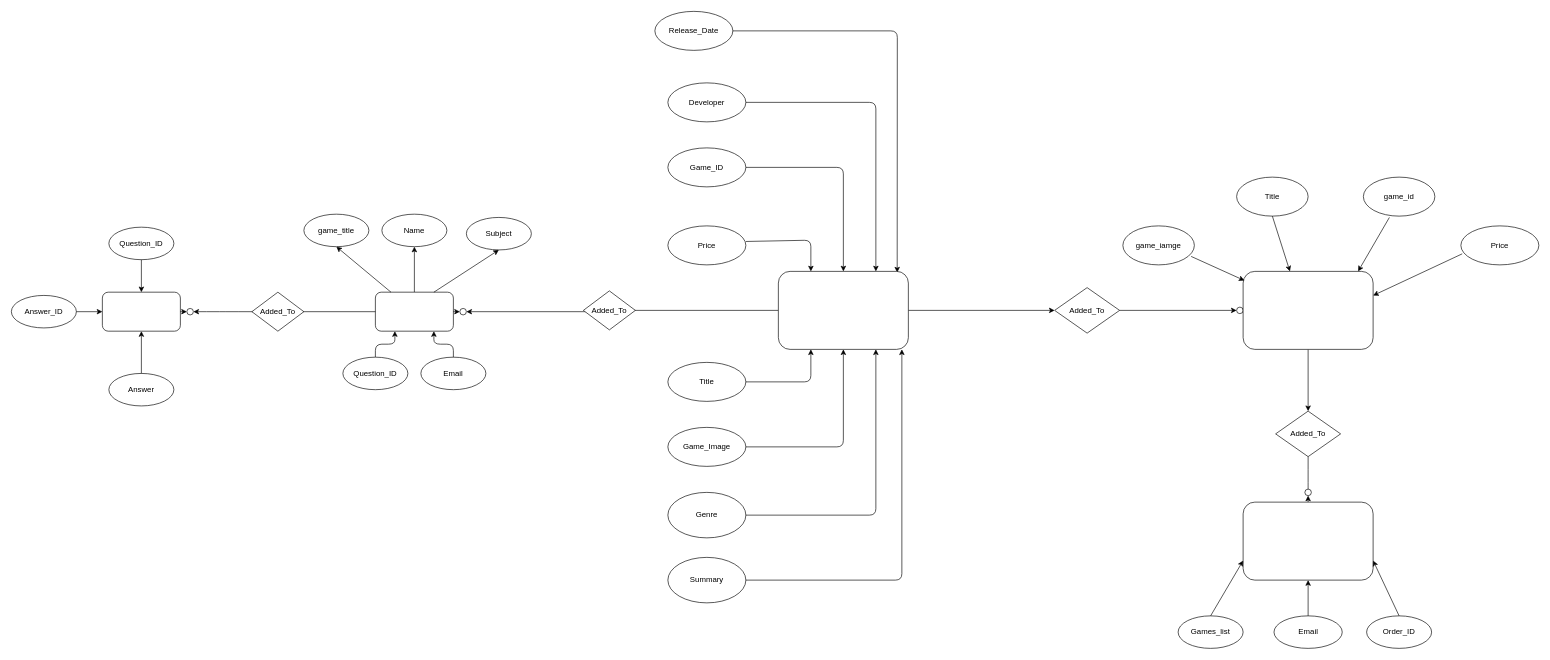
Image size: 1550x660. Some labels were removed from this diagram. The shapes that lost their labels are listed below. From the top down, each one's centre as x and y in pixels, then its label:
At point (141, 311): "Answers".
At point (414, 311): "Questions".
At point (843, 310): "Games".
At point (1307, 310): "Cart".
At point (1307, 540): "Orders".
